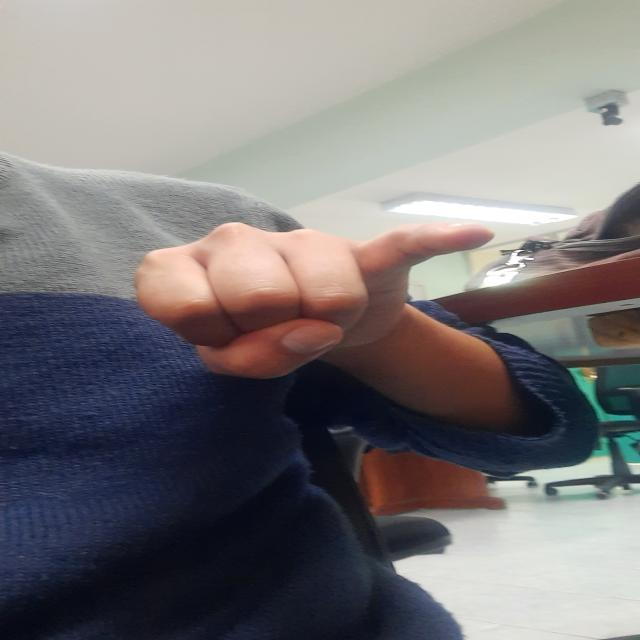J: (118, 202, 509, 386)
